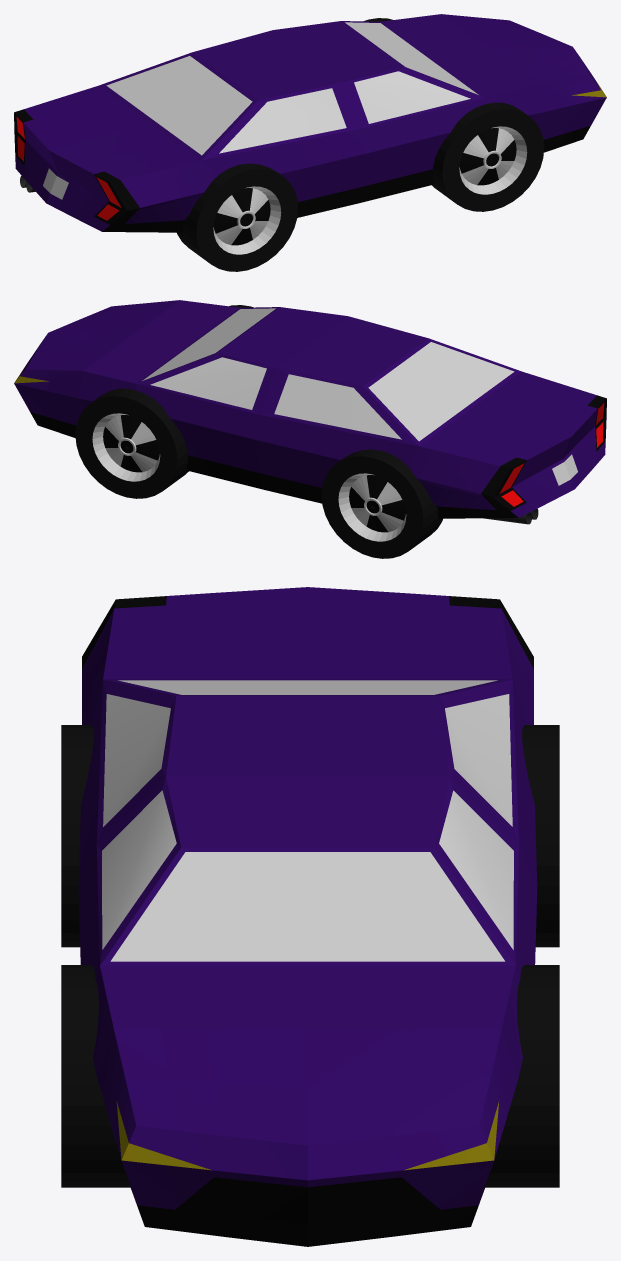
File: carro morado.obj
3 views of the same model, one above another, from view 1: azimuth 30°, elevation 25°; view 2: azimuth 150°, elevation 25°; view 3: azimuth 270°, elevation 25° (orthographic). The views are drawn at different scales.
Visible parts, largest first — view 1: Object_0, Object_1, Object_11, Object_14, Object_3, Object_12, Object_15, Object_13, Object_16, Object_4; view 2: Object_0, Object_1, Object_8, Object_5, Object_3, Object_6, Object_9, Object_7, Object_10, Object_4; view 3: Object_0, Object_1, Object_3, Object_5, Object_14, Object_8, Object_11, Object_2.
Part boxes in pixels (bbox=[...]): Object_0: bbox=[14, 14, 606, 231]; Object_1: bbox=[43, 22, 478, 199]; Object_11: bbox=[177, 163, 298, 271]; Object_14: bbox=[432, 102, 544, 211]; Object_3: bbox=[14, 109, 590, 232]; Object_12: bbox=[213, 186, 281, 254]; Object_15: bbox=[459, 126, 527, 194]; Object_13: bbox=[213, 188, 270, 245]; Object_16: bbox=[459, 128, 516, 185]; Object_4: bbox=[16, 117, 121, 220]; Object_0: bbox=[14, 300, 606, 517]; Object_1: bbox=[142, 308, 577, 485]; Object_8: bbox=[321, 449, 442, 558]; Object_5: bbox=[75, 388, 188, 498]; Object_3: bbox=[30, 395, 606, 518]; Object_6: bbox=[92, 413, 160, 481]; Object_9: bbox=[338, 473, 406, 541]; Object_7: bbox=[103, 415, 159, 472]; Object_10: bbox=[349, 475, 405, 532]; Object_4: bbox=[499, 403, 604, 506]; Object_0: bbox=[78, 587, 537, 1209]; Object_1: bbox=[102, 680, 513, 961]; Object_3: bbox=[82, 596, 533, 1246]; Object_5: bbox=[485, 965, 559, 1187]; Object_14: bbox=[61, 965, 130, 1187]; Object_8: bbox=[522, 725, 559, 947]; Object_11: bbox=[61, 725, 93, 947]; Object_2: bbox=[116, 1101, 498, 1170].
Bounding box in the file's own units: 390 × 97.17 × 158.
